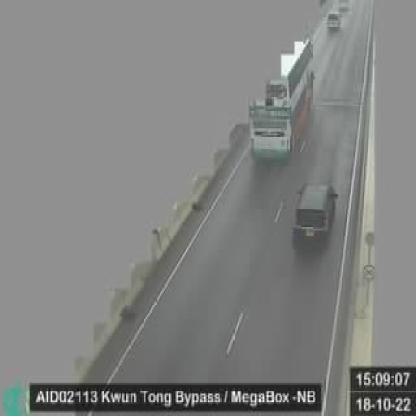Bus: (249, 38, 314, 163)
Car: (290, 180, 338, 254), (324, 10, 343, 34)
